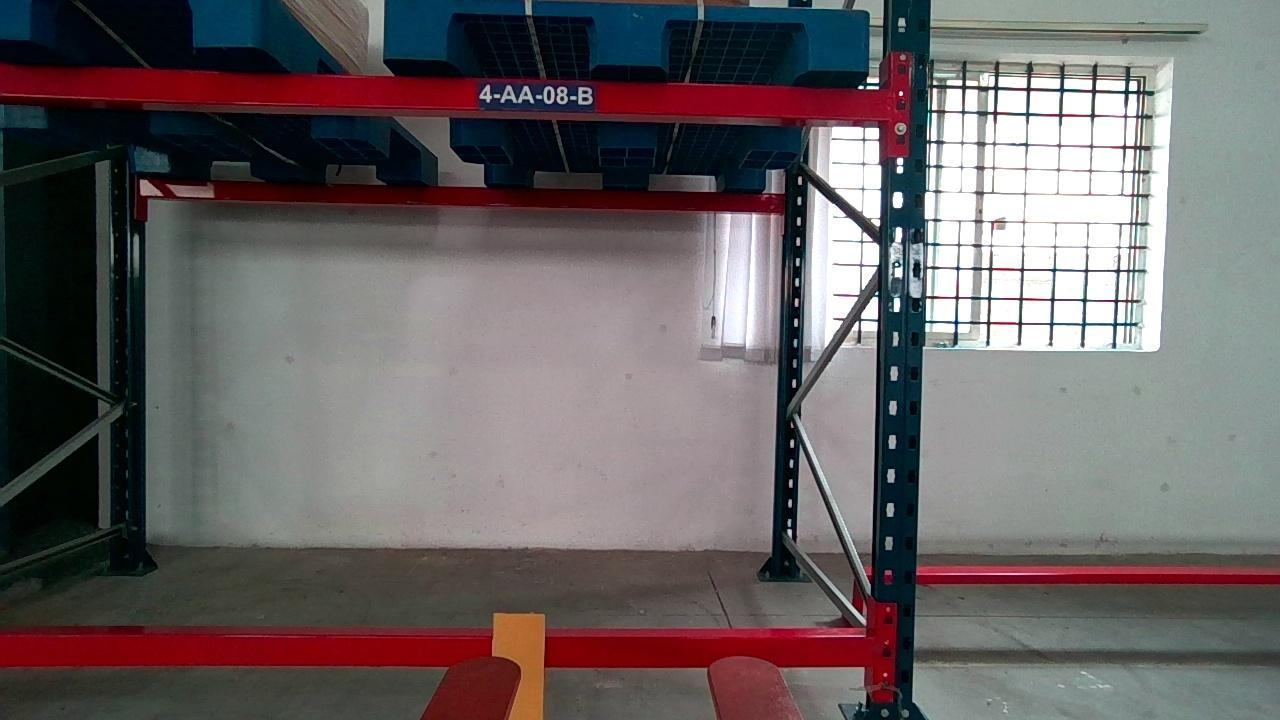h_rack: (2, 64, 893, 120), (0, 633, 872, 666)
orange_strip: (486, 612, 544, 720)
small_pallet: (384, 0, 870, 70)
